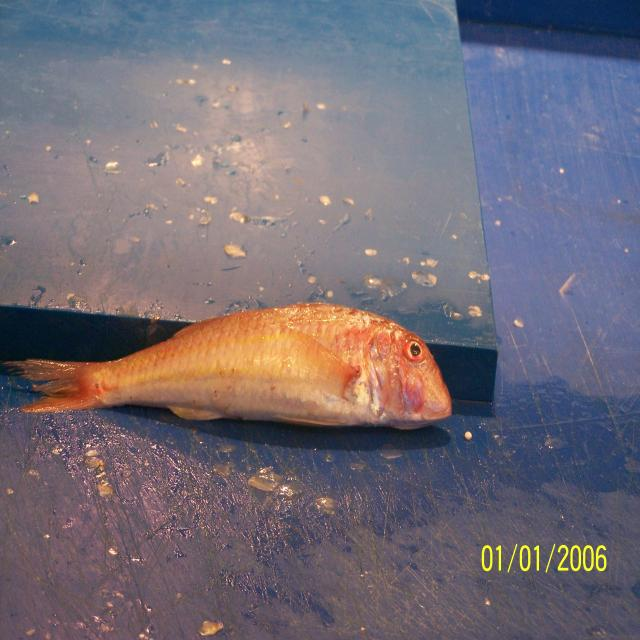Striped-Red-Mullet-tekir-: (9, 303, 453, 432)
